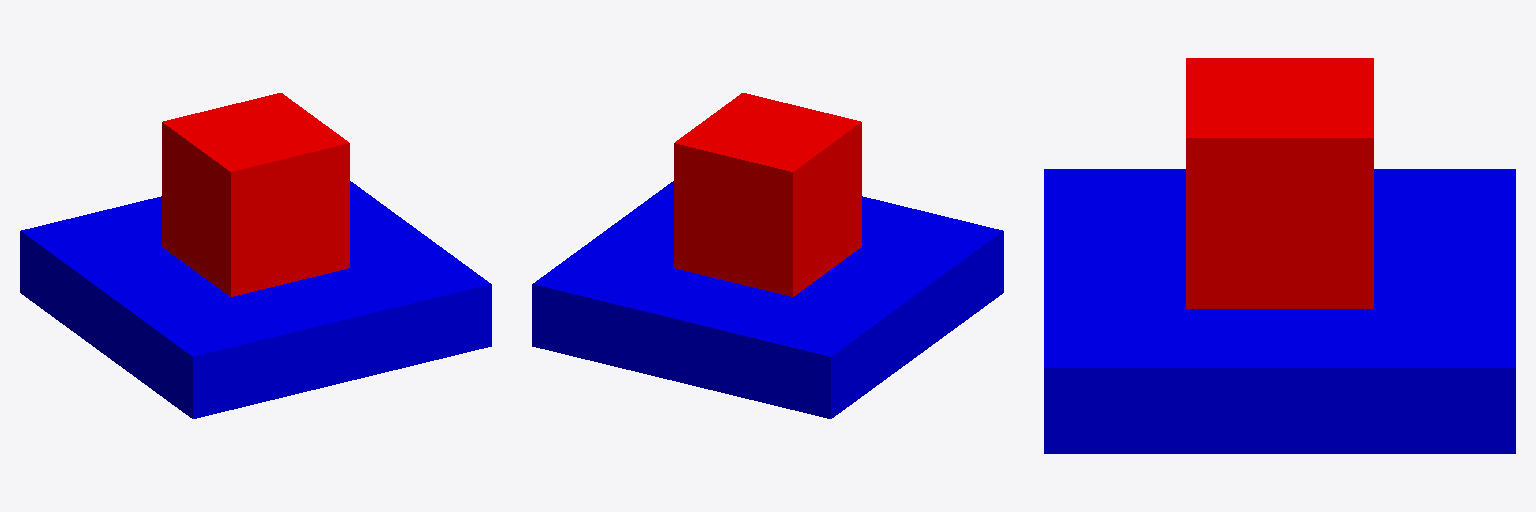
robot.urdf — prismatic_joint_example:
<?xml version="1.0"?>
<robot name="prismatic_joint_example">

  <!-- Base Link -->
  <link name="base_link">
    <visual>
      <geometry>
        <box size="0.5 0.5 0.1"/>
      </geometry>
      <origin xyz="0 0 0" rpy="0 0 0"/>
      <material name="blue">
        <color rgba="0 0 1 1"/>
      </material>
    </visual>
    <collision>
      <geometry>
        <box size="0.5 0.5 0.1"/>
      </geometry>
      <origin xyz="0 0 0" rpy="0 0 0"/>
    </collision>
    <inertial>
      <mass value="1.0"/>
      <inertia ixx="0.01" ixy="0.0" ixz="0.0" iyy="0.01" iyz="0.0" izz="0.01"/>
    </inertial>
  </link>

  <!-- Moving Link -->
  <link name="moving_link">
    <visual>
      <geometry>
        <box size="0.2 0.2 0.2"/>
      </geometry>
      <origin xyz="0 0 0.1" rpy="0 0 0"/>
      <material name="red">
        <color rgba="1 0 0 1"/>
      </material>
    </visual>
    <collision>
      <geometry>
        <box size="0.2 0.2 0.2"/>
      </geometry>
      <origin xyz="0 0 0.1" rpy="0 0 0"/>
    </collision>
    <inertial>
      <mass value="0.5"/>
      <inertia ixx="0.005" ixy="0.0" ixz="0.0" iyy="0.005" iyz="0.0" izz="0.005"/>
    </inertial>
  </link>

  <!-- Prismatic Joint -->
  <joint name="prismatic_joint" type="prismatic">
    <parent link="base_link"/>
    <child link="moving_link"/>
    <origin xyz="0 0 0.05" rpy="0 0 0"/>
    <axis xyz="1 0 0"/> <!-- Linear motion along x-axis -->
    <limit effort="1000" velocity="1.0" lower="-0.5" upper="0.5"/> <!-- Limits for translation -->
  </joint>

</robot>

--- What the picture shows (computed from the rendered views, not written in the file) ---
The picture shows the robot from 3 angles, left to right: view 1: azimuth 30°, elevation 25°; view 2: azimuth 150°, elevation 25°; view 3: azimuth 270°, elevation 25°; orthographic projection.
Model prismatic_joint_example with 2 links and 1 joints (1 prismatic), rooted at base_link, posed every joint at zero.
Visible links, largest first — view 1: base_link, moving_link; view 2: base_link, moving_link; view 3: base_link, moving_link.
Link boxes in pixels (left/top/right/bottom): base_link: left=20, top=181, right=491, bottom=418; moving_link: left=162, top=93, right=349, bottom=296; base_link: left=532, top=181, right=1003, bottom=418; moving_link: left=674, top=93, right=861, bottom=296; base_link: left=1044, top=169, right=1515, bottom=453; moving_link: left=1186, top=58, right=1373, bottom=308.
Size in the robot's own frame: 0.5 by 0.5 by 0.3 metres.
Geometry: primitives only (box / cylinder / sphere), no mesh files.